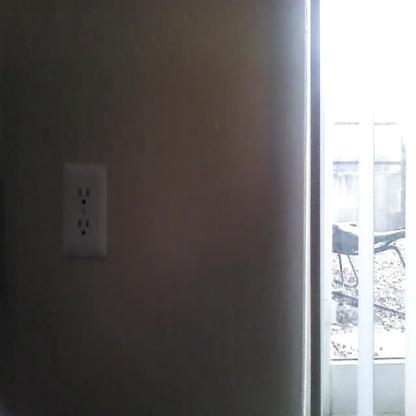OUTLET: (62, 162, 106, 258)
